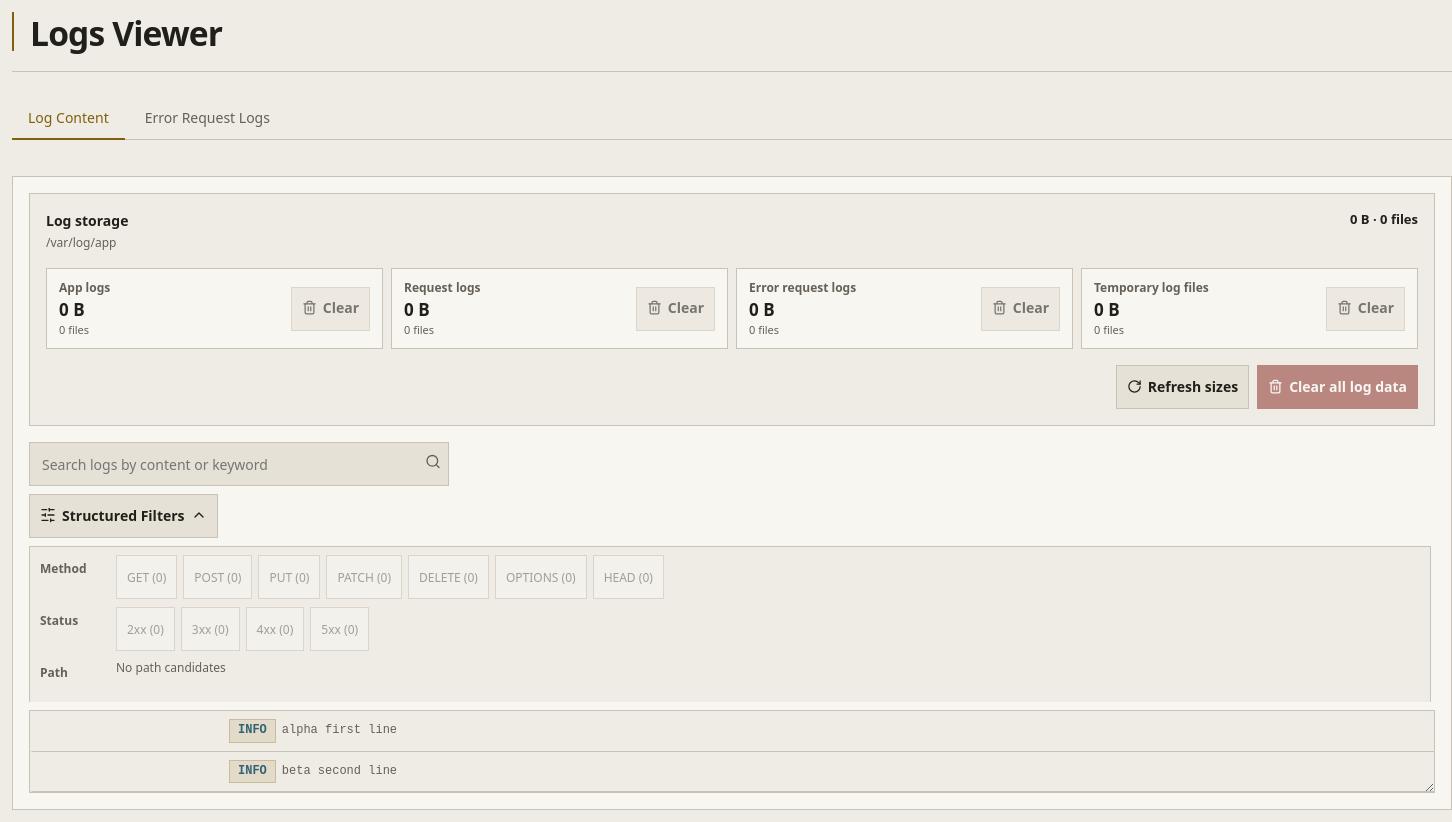
LogsPage search filtering › hides log lines that do not match the search query
Expected: the text "alpha first line" is shown, [282,722,397,740]
Step 1. Type "beta" into the field with placeholder "Search logs by content or keyword" → [239, 464], box [29,442,449,486]
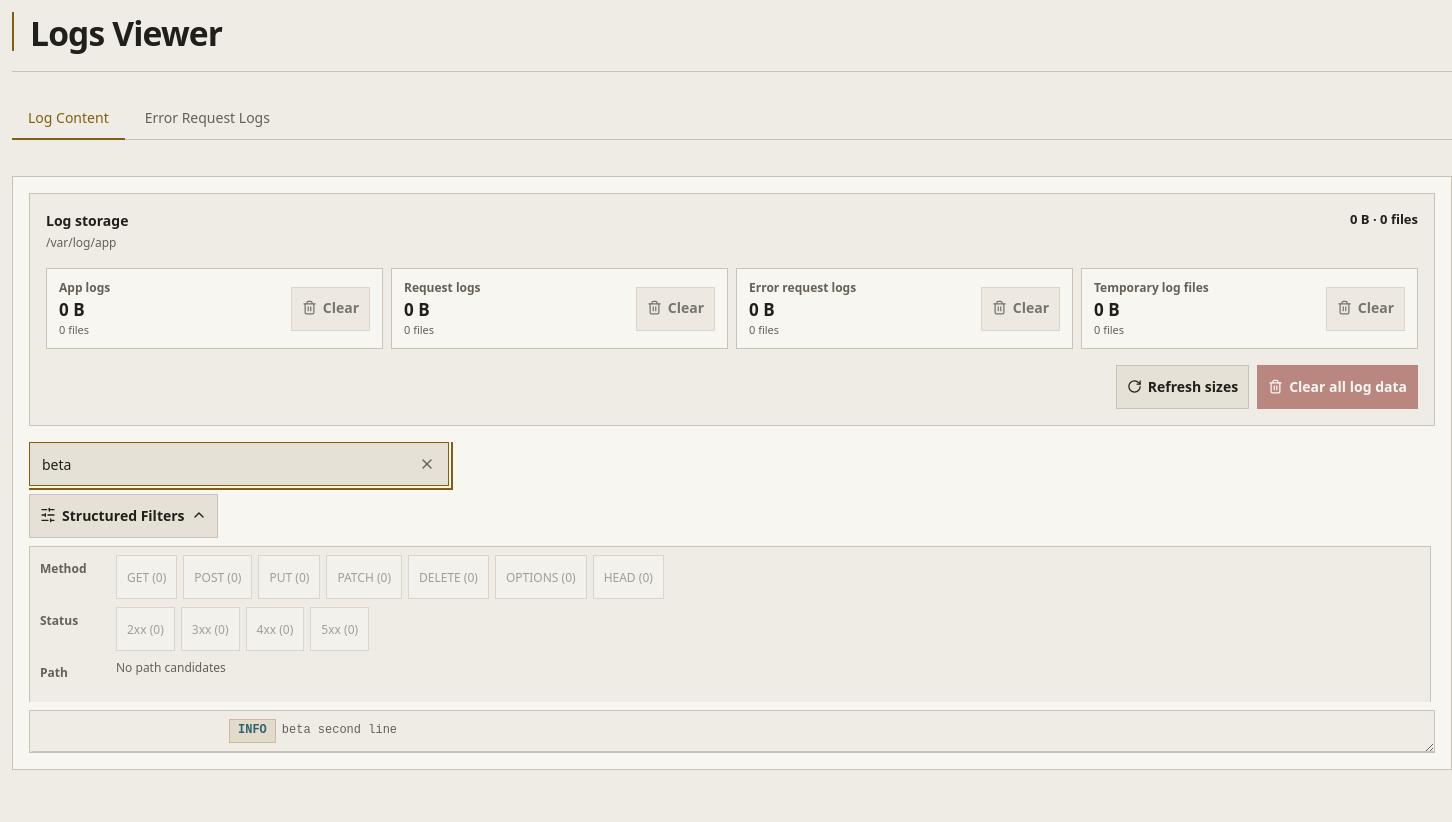
Now the text "alpha first line" is gone
